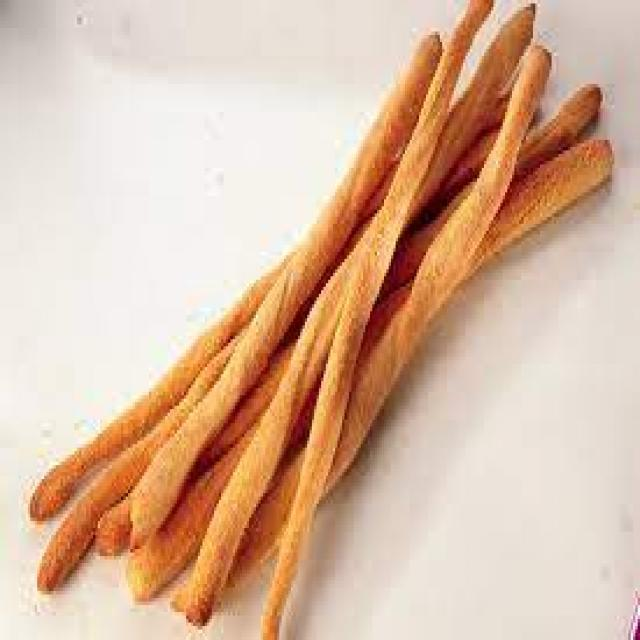Grissini: (40, 18, 612, 616)
